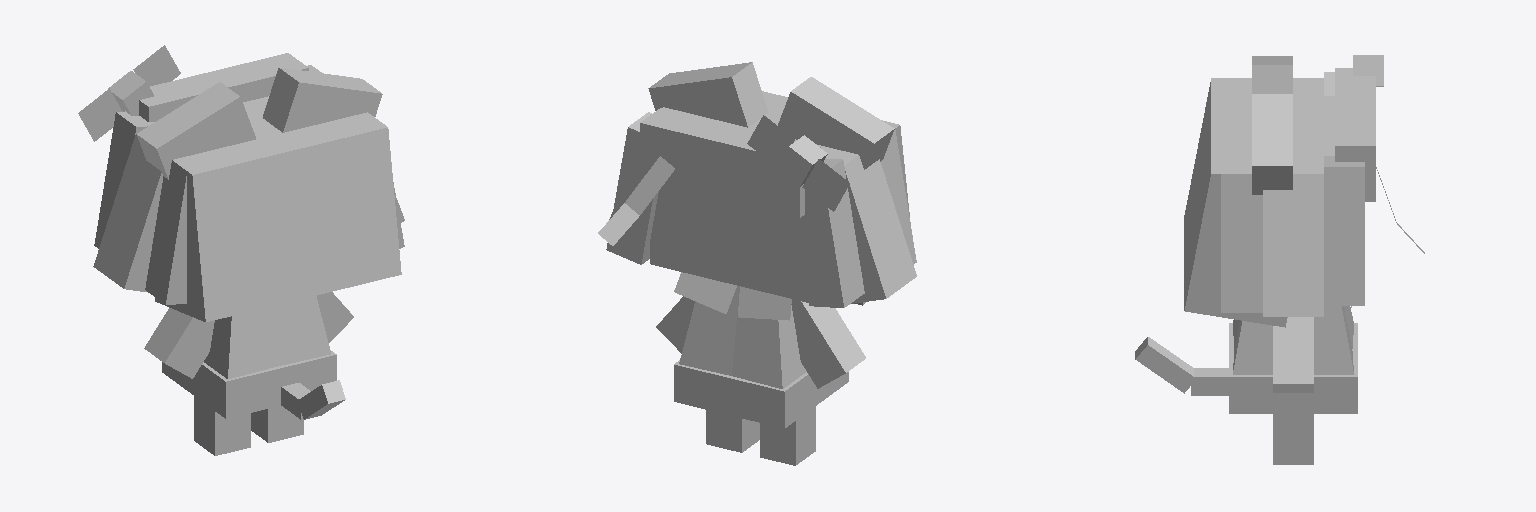
Rendered from masyunya.obj.
3 views of the same model, side by side, from view 1: azimuth 30°, elevation 25°; view 2: azimuth 150°, elevation 25°; view 3: azimuth 270°, elevation 25° (orthographic).
Visible parts, largest first — view 1: bone7, bone8, ear_left, ear_right, full_body, bone, bone9, bone4, back_left, bone12, back_right, bone2 (+8 smaller); view 2: head2, bone4, bone8, bone2, full_body, ear_left, ear_right, front_left, bone12, front_right, bone3, left_leg (+11 smaller); view 3: bone5, bone, bone7, bone3, bone6, full_body, bone4, ear_right, bone13, front_right, right_leg, back_right (+4 smaller).
Boxes of the visible parts, x1,y1,x2,y2 form: bone7: [155, 128, 401, 321]; bone8: [93, 134, 162, 291]; ear_left: [137, 82, 255, 179]; ear_right: [263, 67, 382, 132]; full_body: [162, 351, 336, 418]; bone: [173, 96, 387, 192]; bone9: [145, 160, 186, 304]; bone4: [139, 53, 308, 121]; back_left: [204, 306, 278, 378]; bone12: [144, 308, 214, 378]; back_right: [273, 296, 330, 365]; bone2: [94, 111, 154, 248]; head2: [650, 185, 808, 302]; bone4: [640, 108, 820, 217]; bone8: [844, 155, 916, 303]; bone2: [795, 158, 864, 307]; full_body: [674, 360, 848, 428]; ear_left: [778, 77, 894, 169]; ear_right: [648, 62, 768, 127]; front_left: [732, 290, 806, 388]; bone12: [791, 299, 865, 388]; front_right: [679, 286, 739, 375]; bone3: [606, 112, 658, 264]; left_leg: [760, 406, 815, 465]; bone5: [1263, 174, 1323, 316]; bone: [1211, 78, 1334, 191]; bone7: [1184, 82, 1287, 327]; bone3: [1324, 156, 1364, 305]; bone6: [1221, 174, 1262, 312]; full_body: [1229, 323, 1357, 413]; bone4: [1335, 68, 1375, 201]; ear_right: [1252, 94, 1292, 194]; bone13: [1273, 317, 1313, 392]; front_right: [1314, 306, 1353, 374]; right_leg: [1273, 414, 1313, 464]; back_right: [1233, 320, 1272, 374].
Bounding box in the file's own units: 0.9868 × 1.25 × 0.8789.